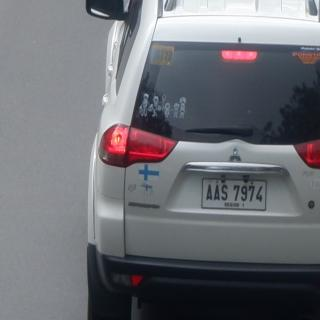license: (203, 178, 267, 211)
